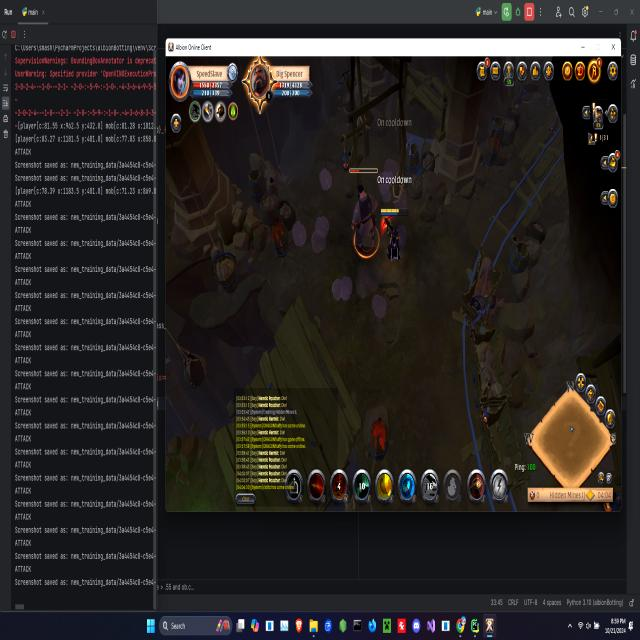ore: (345, 163, 386, 266), (513, 79, 541, 112), (550, 106, 560, 136), (546, 87, 553, 109)
red: (376, 203, 411, 266)
